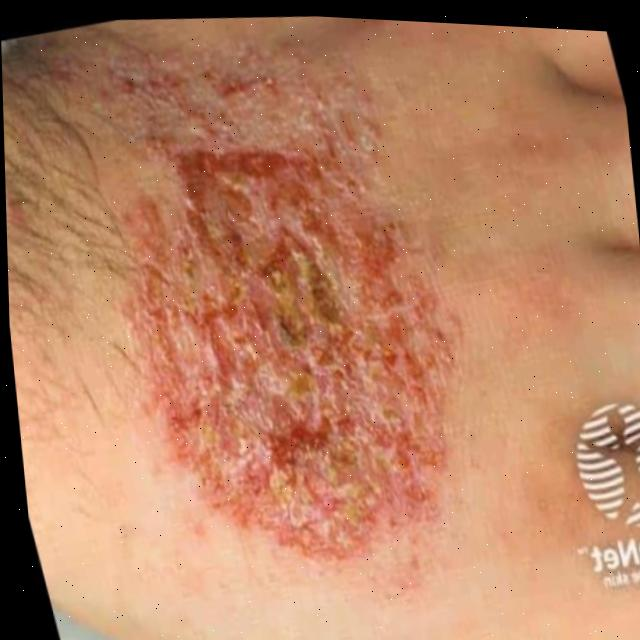Eczema: (73, 17, 463, 571)
